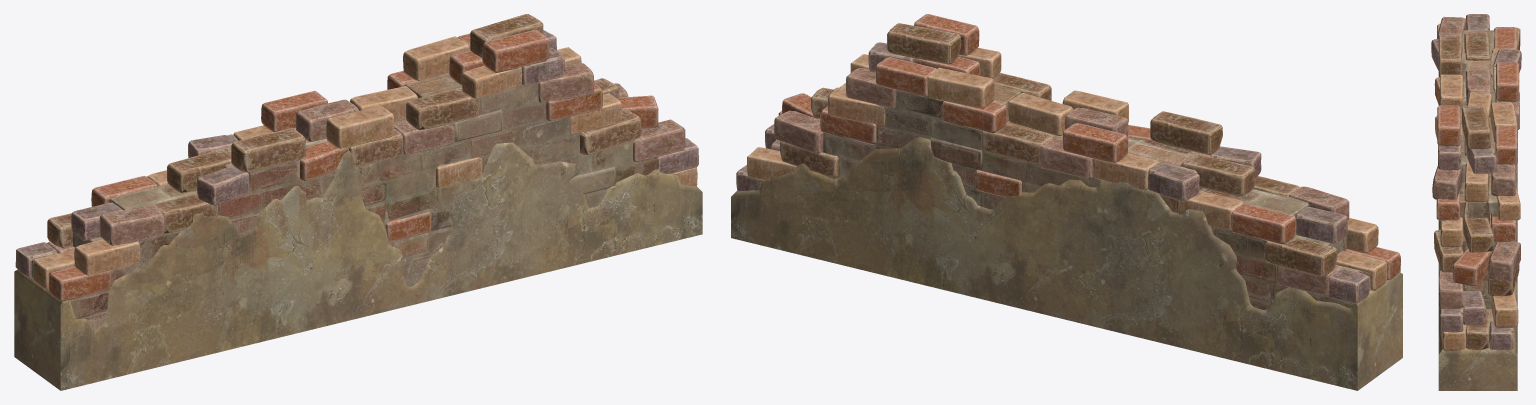
The picture shows the model from 3 angles, left to right: view 1: azimuth 30°, elevation 25°; view 2: azimuth 150°, elevation 25°; view 3: azimuth 270°, elevation 25°; orthographic projection. The views are drawn at different scales.
Visible parts, largest first — view 1: SM_Human_Ruins_LowWall_Dmg_01_LOD0; view 2: SM_Human_Ruins_LowWall_Dmg_01_LOD0; view 3: SM_Human_Ruins_LowWall_Dmg_01_LOD0.
Part boxes in pixels (x1,y1,x2,y2): SM_Human_Ruins_LowWall_Dmg_01_LOD0: (14,14,702,390); SM_Human_Ruins_LowWall_Dmg_01_LOD0: (731,14,1402,390); SM_Human_Ruins_LowWall_Dmg_01_LOD0: (1431,14,1521,390).
Bounding box in the file's own units: 4 × 1.4 × 0.5699.
3 materials, 3 textured.
